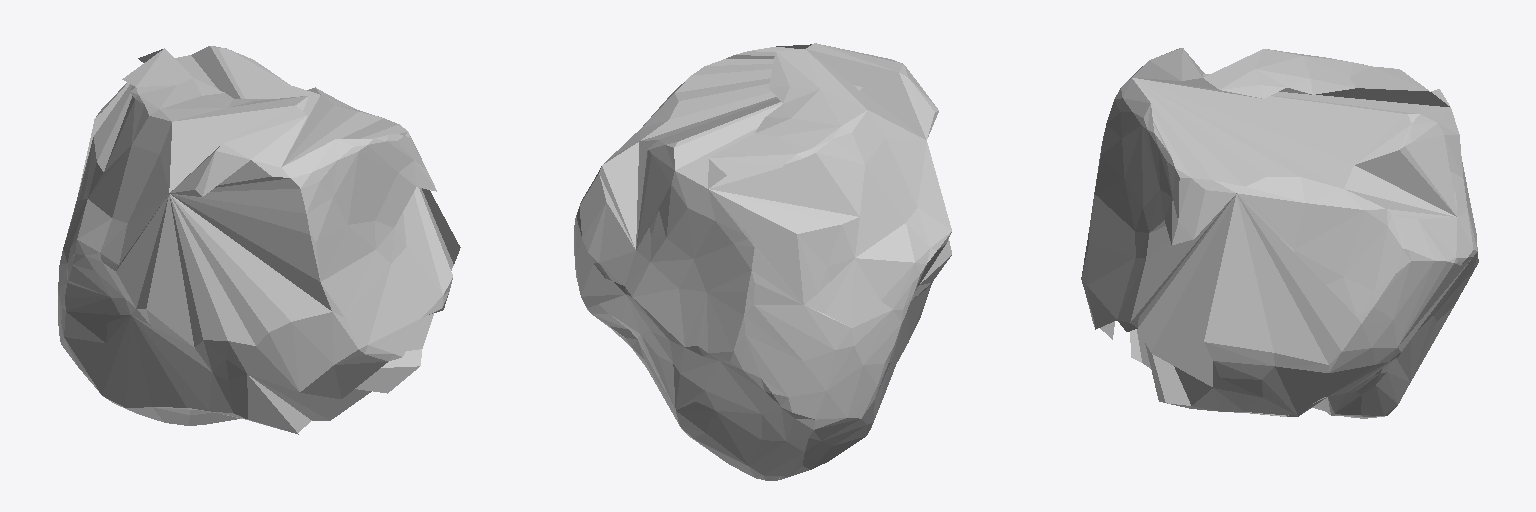
Rendered from Rock3MelonGameJam.obj.
3 views of the same model, side by side, from view 1: azimuth 30°, elevation 25°; view 2: azimuth 150°, elevation 25°; view 3: azimuth 270°, elevation 25° (orthographic).
Parts seen in each view (by area): view 1: Cube; view 2: Cube; view 3: Cube.
Part boxes in pixels (x1,y1,x2,y2): Cube: (58,46,460,434); Cube: (574,43,951,480); Cube: (1081,48,1478,418).
Bounding box in the file's own units: 2.17 × 2.22 × 2.24.